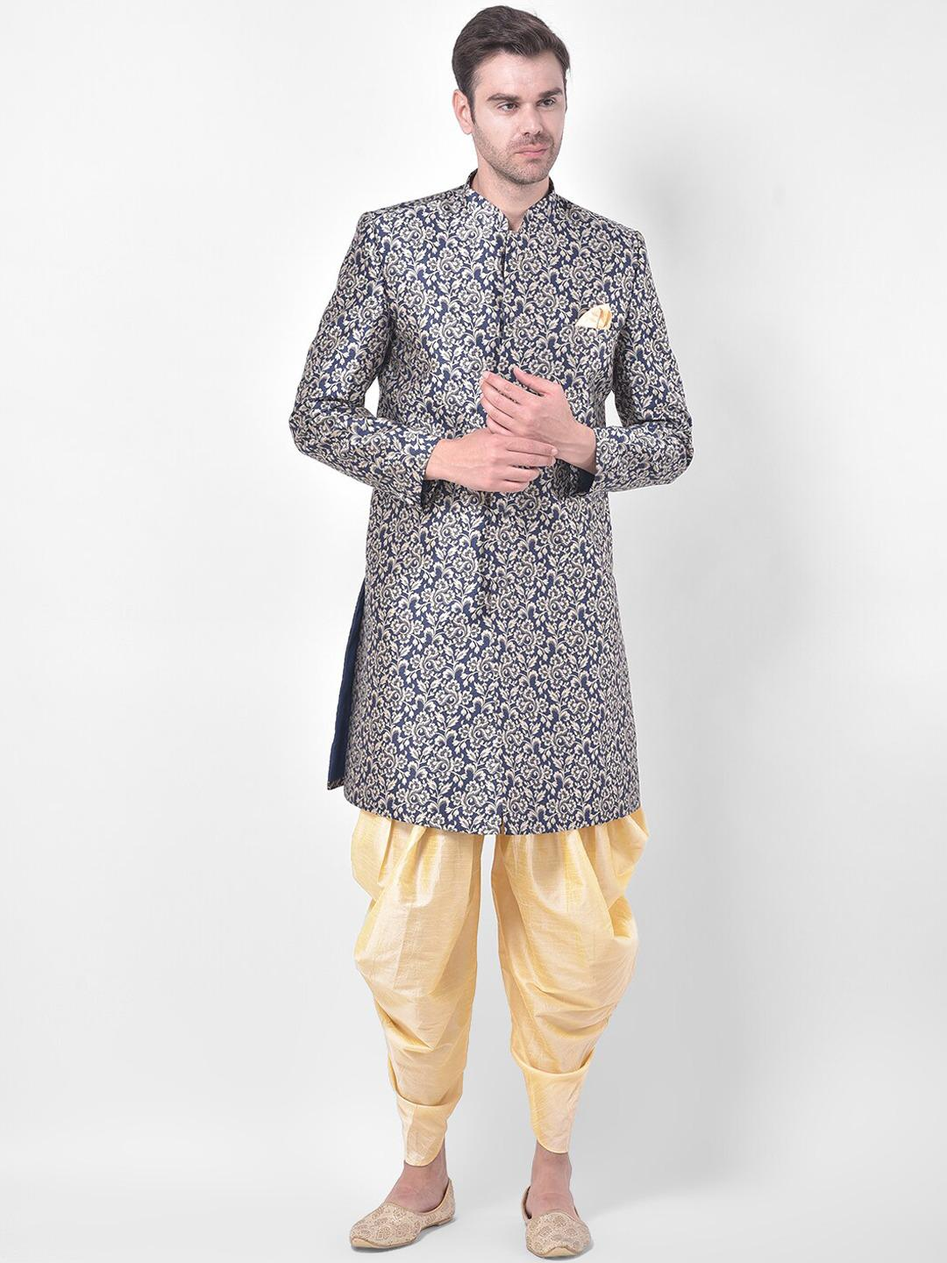Design Sherwani: (287, 169, 696, 842)
